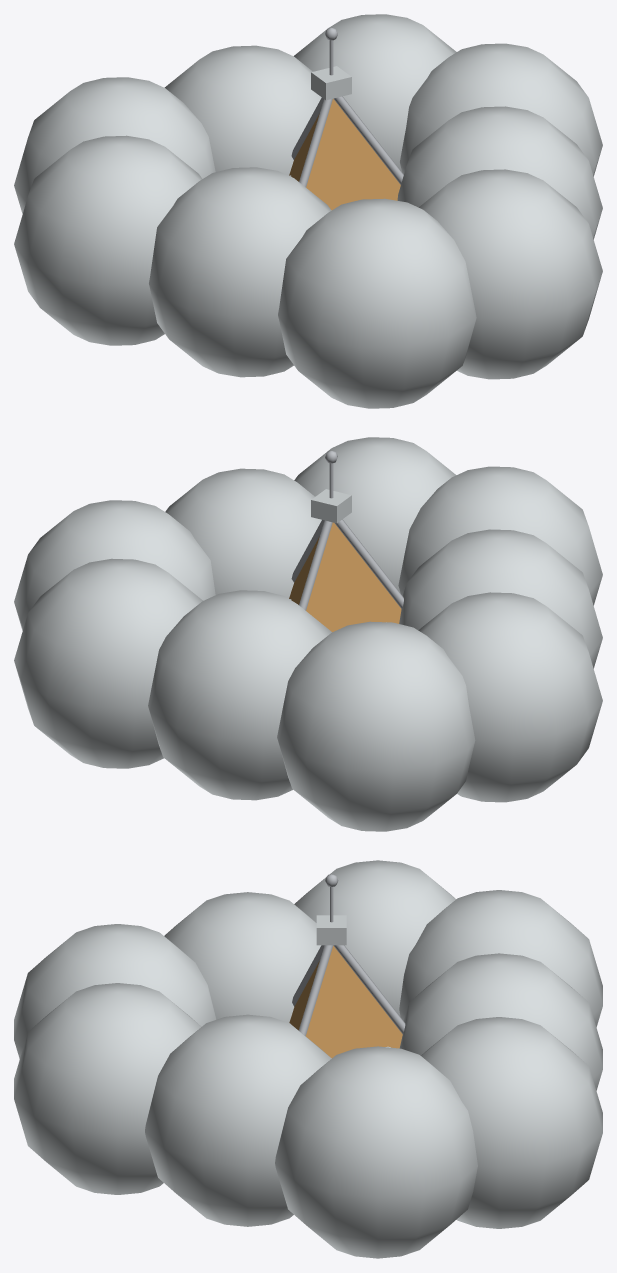
Rendered from lander_airbag.glb.
3 views of the same model, one above another, from view 1: azimuth 30°, elevation 25°; view 2: azimuth 150°, elevation 25°; view 3: azimuth 270°, elevation 25° (orthographic).
Parts seen in each view (by area): view 1: lander_airbag_mesh; view 2: lander_airbag_mesh; view 3: lander_airbag_mesh.
Part boxes in pixels (bbox=[...]): lander_airbag_mesh: bbox=[14, 14, 602, 408]; lander_airbag_mesh: bbox=[14, 437, 602, 831]; lander_airbag_mesh: bbox=[14, 860, 602, 1258].
Bounding box in the file's own units: 4.78 × 2.27 × 4.31.
